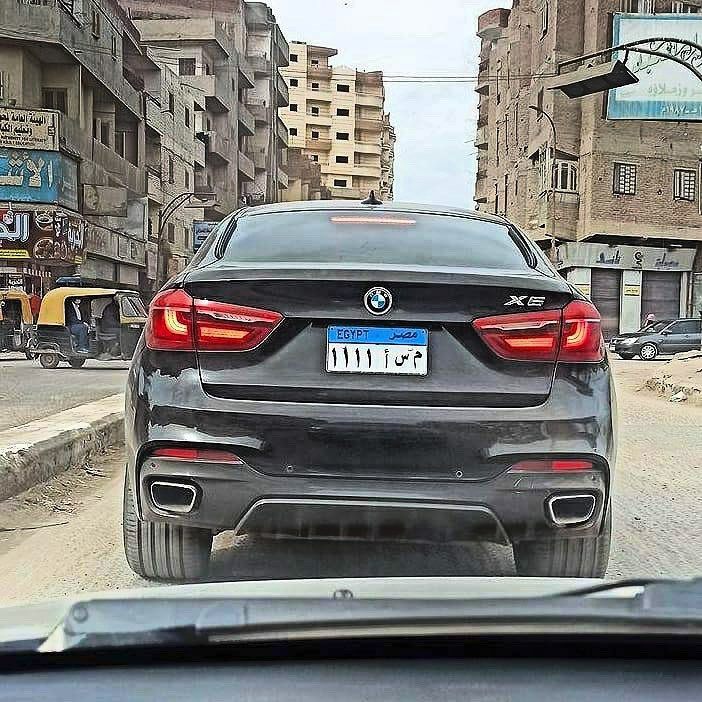carpl: (324, 338, 429, 374)
